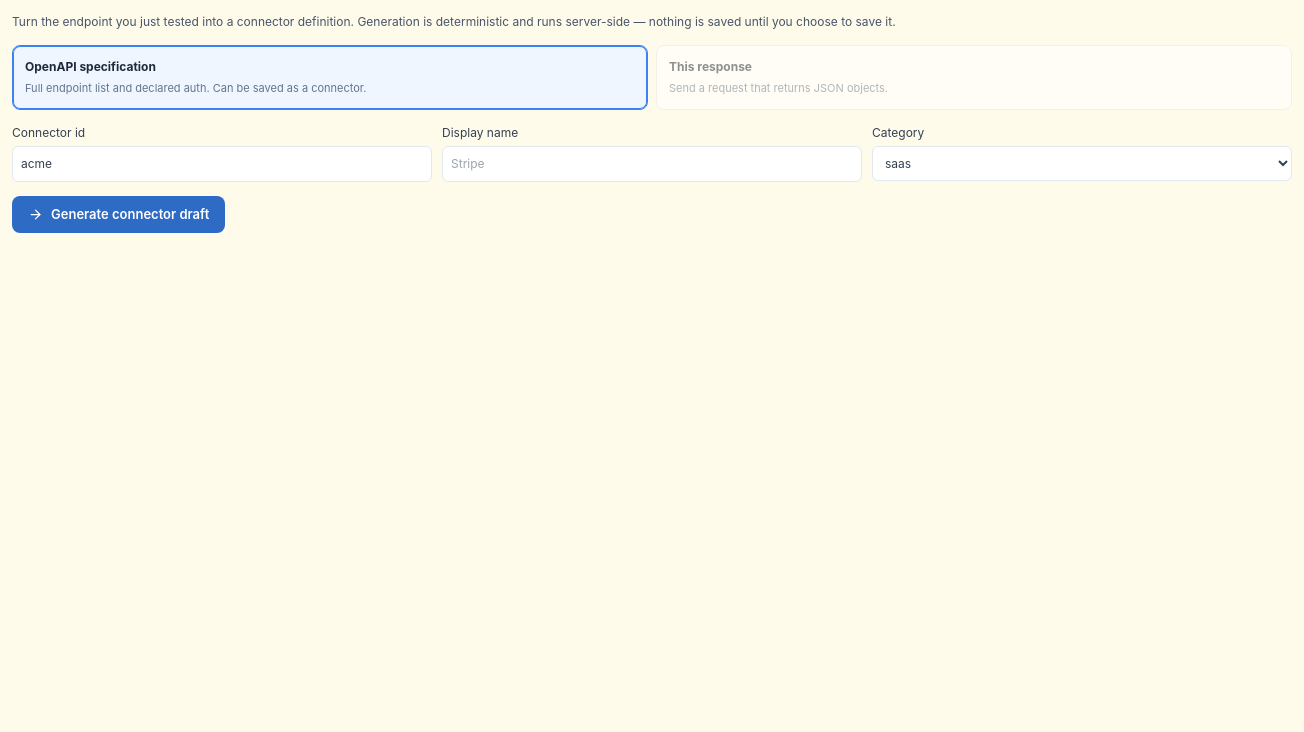
connector draft step › discards a stale draft when the connector id changes
Click the button "Generate connector draft" at (119, 214), box [12,196,225,233]
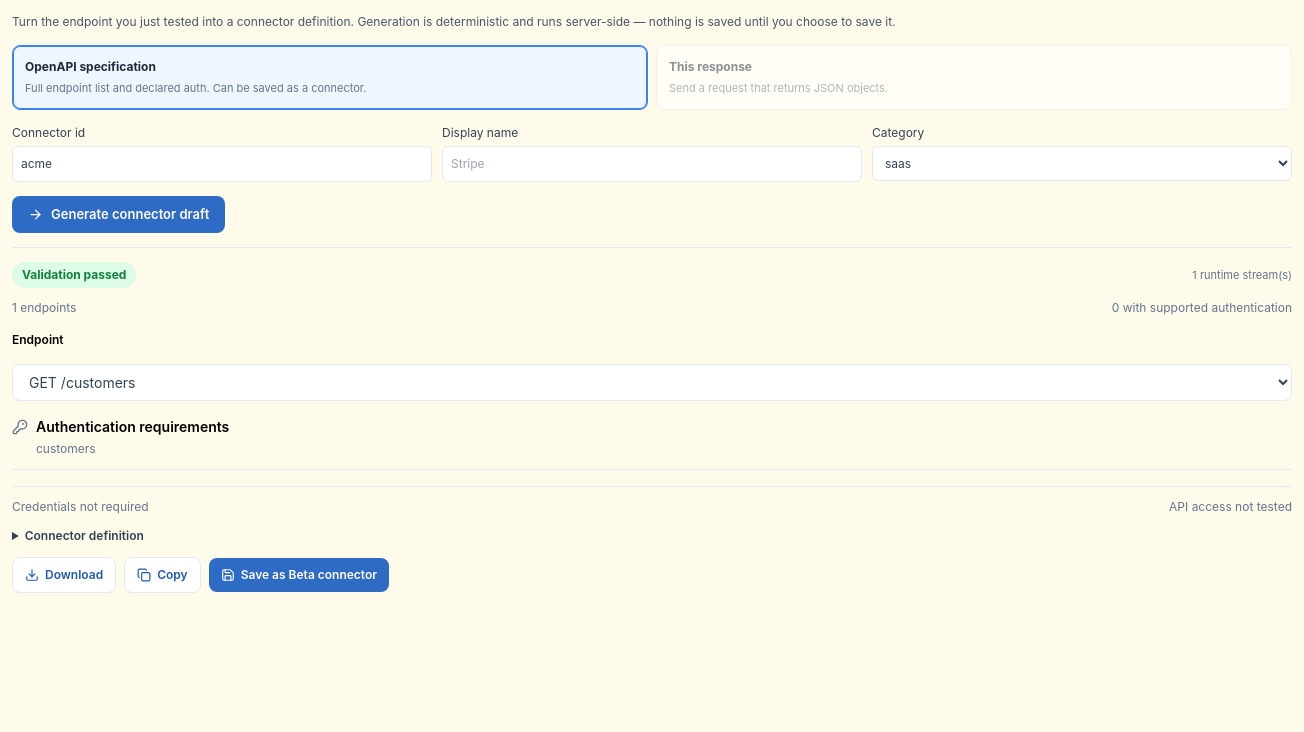
Result: the text "Validation passed" is shown at [12,262,136,288]
Replace the text in the field labelled "Connector id" with "other" at (222, 164), box [12,146,432,182]
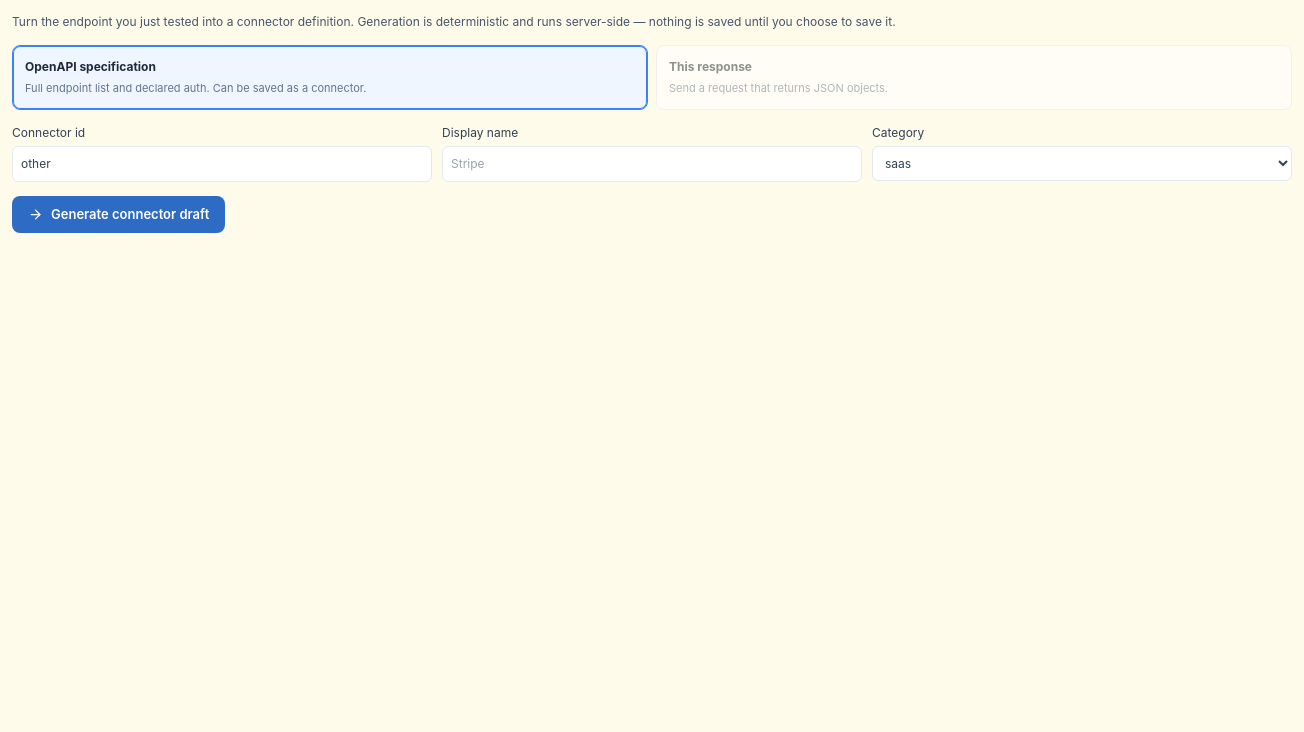
Result: the text "Validation passed" is gone
